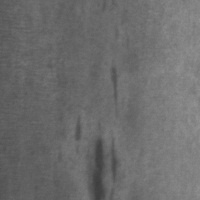inclusion: (86, 121, 124, 199), (105, 61, 124, 116), (70, 113, 85, 155)
